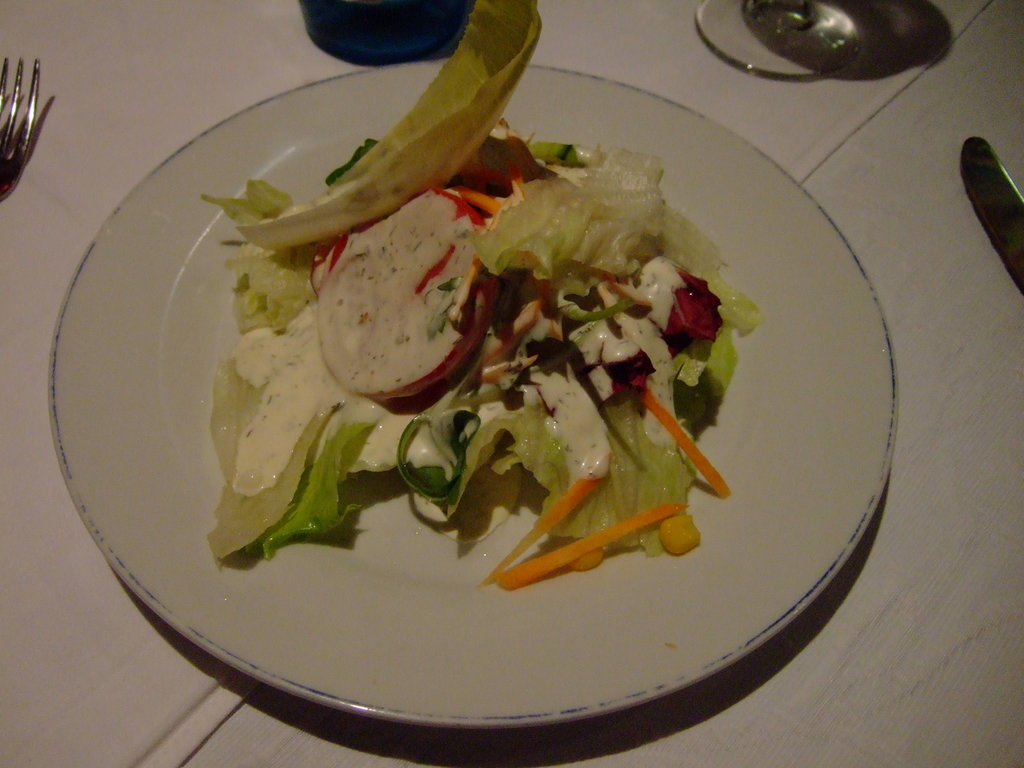salad: (207, 0, 763, 596)
